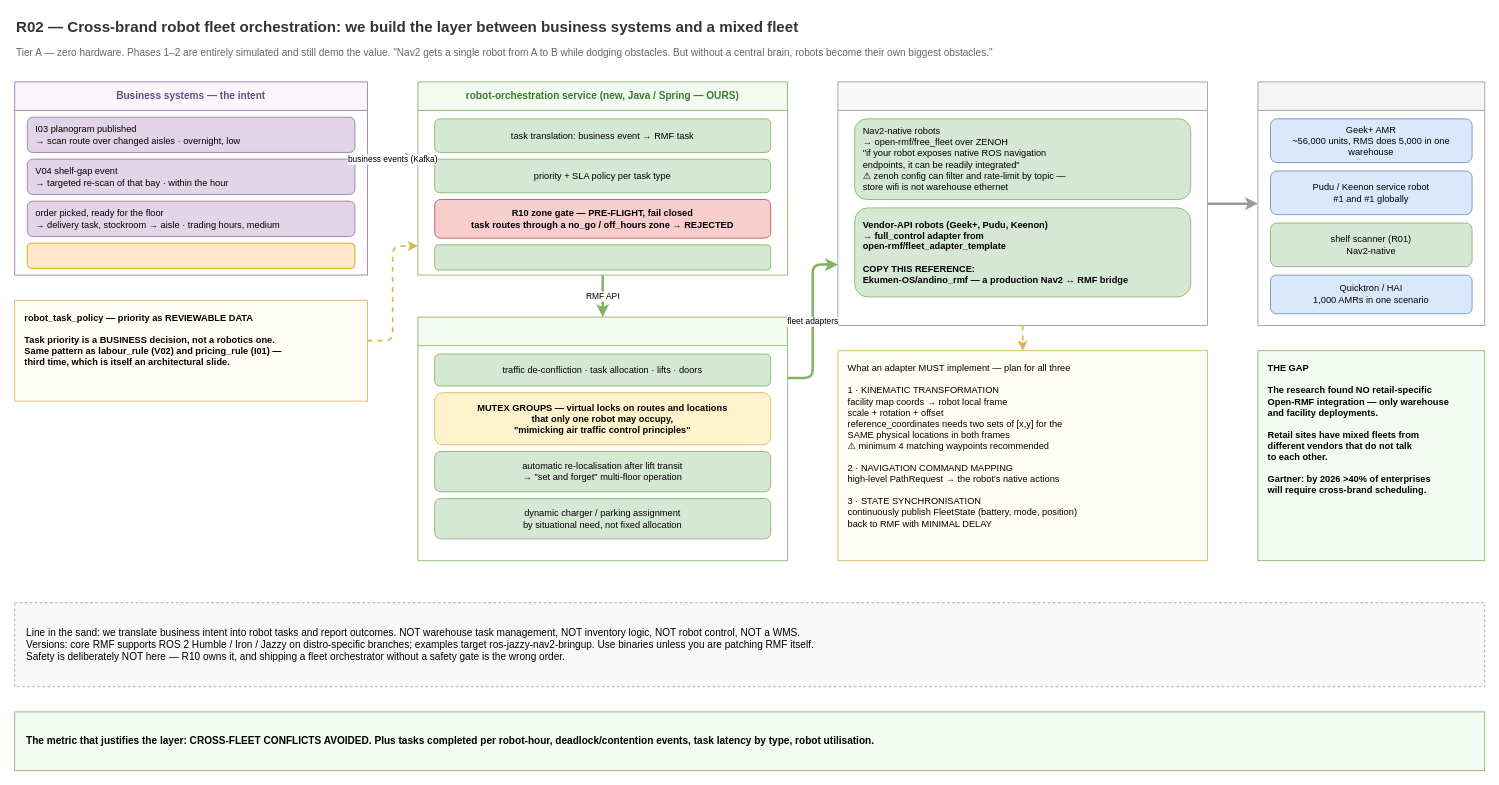
Image size: 1499x785. Some labels were removed from this diagram. The box of each missing label's shape, as (x1, y1, x2, y2) in pixels:
Fleet adapters — two shapes: (837, 81, 1208, 326)
Mixed fleet — the hardware we do NOT build: (1257, 81, 1485, 326)
Open-RMF (Apache-2.0 · Intrinsic + OSRF · OSRA-governed since 2024): (417, 316, 788, 561)
outcome → ai_decision registry (I06): (434, 244, 771, 270)
spill / incident reported → cleaning robot · IMMEDIATE, pre-empts everything: (26, 242, 355, 268)
